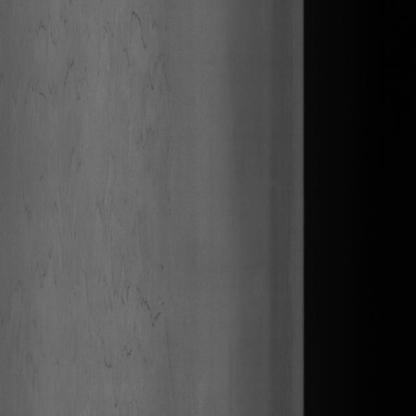silk_spot: (87, 35, 191, 305)
